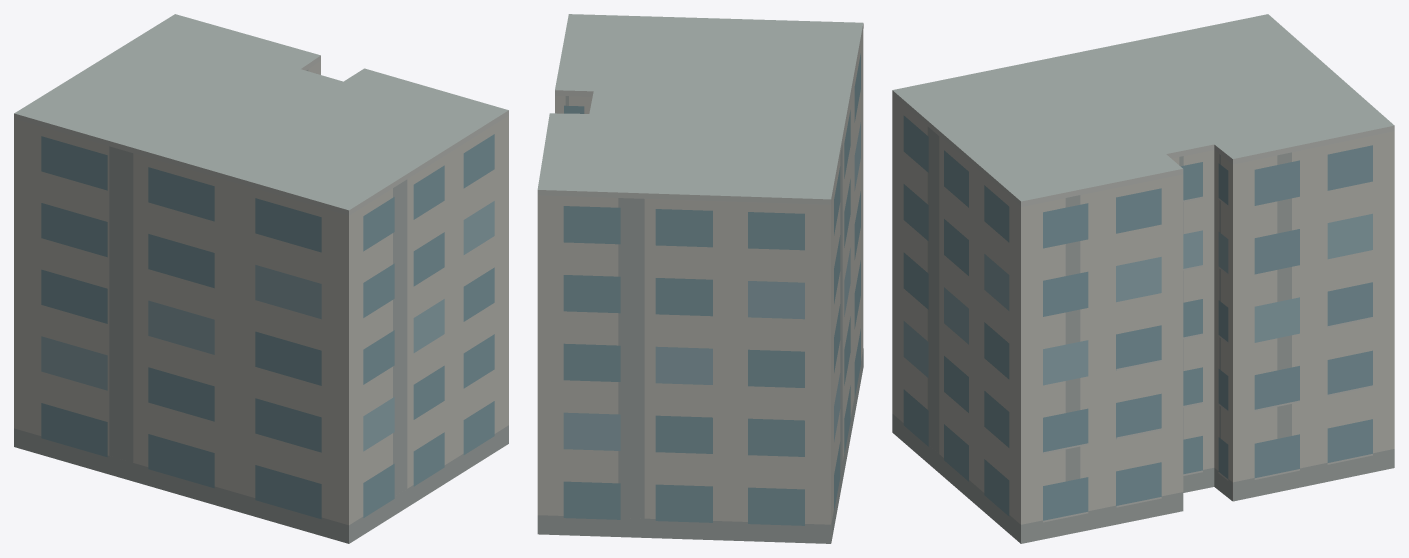
The model's file is survey-upis-32630341.glb.
3 views of the same model, side by side, from view 1: azimuth 30°, elevation 25°; view 2: azimuth 150°, elevation 25°; view 3: azimuth 270°, elevation 25° (orthographic). The views are drawn at different scales.
Visible parts, largest first — view 1: survey-upis-32630341.tmp; view 2: survey-upis-32630341.tmp; view 3: survey-upis-32630341.tmp.
Boxes of the visible parts, box(x1,y1,x2,y2) form: survey-upis-32630341.tmp: box(14, 14, 508, 543); survey-upis-32630341.tmp: box(537, 14, 863, 543); survey-upis-32630341.tmp: box(892, 14, 1394, 543).
Bounding box in the file's own units: 17.92 × 15.25 × 20.29.
